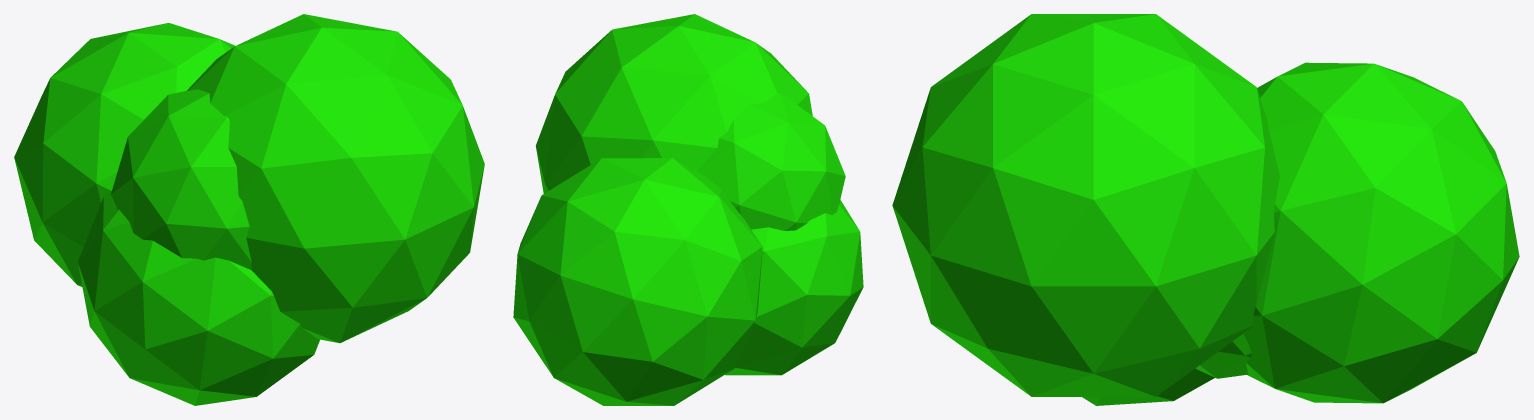
The model's file is bush 10.fbx.
The picture shows the model from 3 angles, left to right: view 1: azimuth 30°, elevation 25°; view 2: azimuth 150°, elevation 25°; view 3: azimuth 270°, elevation 25°; orthographic projection. The views are drawn at different scales.
Visible parts, largest first — view 1: Icosphere.010; view 2: Icosphere.010; view 3: Icosphere.010.
Part boxes in pixels (box(x1,y1,x2,y2)): Icosphere.010: box(14, 14, 484, 405); Icosphere.010: box(513, 14, 863, 405); Icosphere.010: box(892, 14, 1519, 405).
Bounding box in the file's own units: 242 × 231 × 311.
